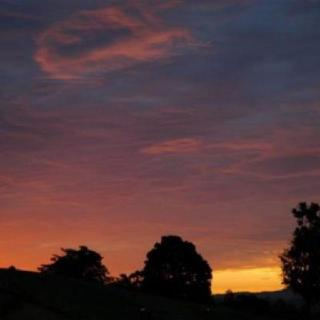Altostratus: (0, 0, 320, 292)
